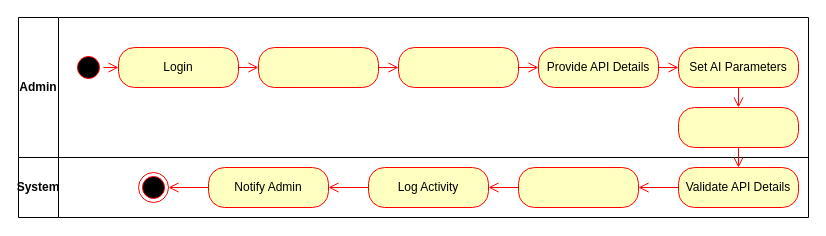
Image size: 826x236. Some labels were removed from this diagram. The centre of each missing label's shape, as x and y in pixels:
Access AI Config Panel: (458,67)
Save AI Configuration: (578,187)
Submit Configurations: (738,127)
View Dashboard: (318,67)
